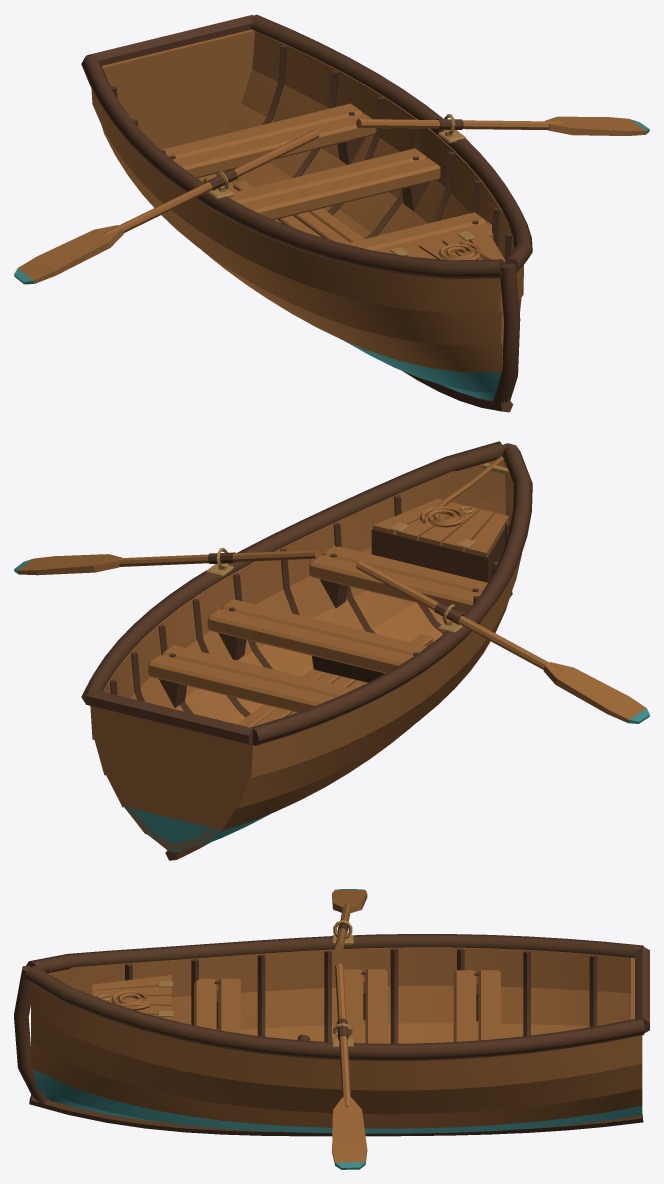
The model's file is boat_rowboat_a.glb.
3 views of the same model, one above another, from view 1: azimuth 30°, elevation 25°; view 2: azimuth 150°, elevation 25°; view 3: azimuth 270°, elevation 25° (orthographic). The views are drawn at different scales.
Visible parts, largest first — view 1: boat_rowboat_a_material_01, boat_rowboat_a_material_02, rowboat_oar_right, rowboat_oar_left, boat_rowboat_a_material_03, boat_rowboat_a_material_00; view 2: boat_rowboat_a_material_01, boat_rowboat_a_material_02, rowboat_oar_right, rowboat_oar_left, boat_rowboat_a_material_03, boat_rowboat_a_material_00; view 3: boat_rowboat_a_material_01, boat_rowboat_a_material_02, boat_rowboat_a_material_03, rowboat_oar_left, rowboat_oar_right, boat_rowboat_a_material_00.
Part boxes in pixels (x1,y1,x2,y2): boat_rowboat_a_material_01: (91,29,523,402); boat_rowboat_a_material_02: (81,14,532,412); rowboat_oar_right: (14,129,319,284); rowboat_oar_left: (356,116,649,135); boat_rowboat_a_material_03: (345,341,509,403); boat_rowboat_a_material_00: (208,130,475,255); boat_rowboat_a_material_01: (90,456,521,851); boat_rowboat_a_material_02: (81,441,532,860); rowboat_oar_right: (356,560,649,723); rowboat_oar_left: (14,550,319,575); boat_rowboat_a_material_03: (124,806,270,852); boat_rowboat_a_material_00: (206,463,509,632); boat_rowboat_a_material_01: (31,947,642,1128); boat_rowboat_a_material_02: (14,934,649,1136); boat_rowboat_a_material_03: (31,1069,642,1133); rowboat_oar_left: (332,963,367,1169); rowboat_oar_right: (332,889,367,951); boat_rowboat_a_material_00: (49,934,353,1047).
Size of the model in its own units: 4.32 by 1.31 by 4.16.
